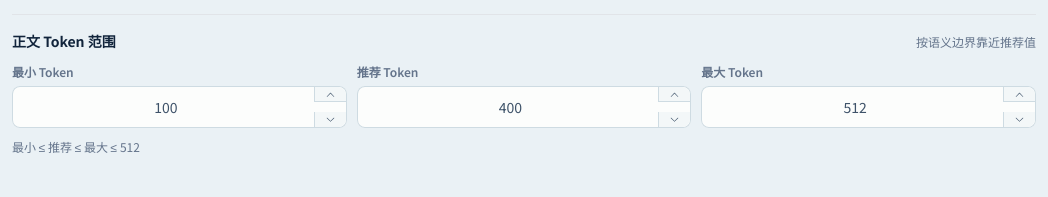
Test: MarkdownStrategyConfig › reports an inline error for a maximum above 512 and disables preview through validity
This screenshot has width=1048, height=197.
Replace the text in the number field labelled "最大 Token" with "513": (855, 107) [716,87,994,127]
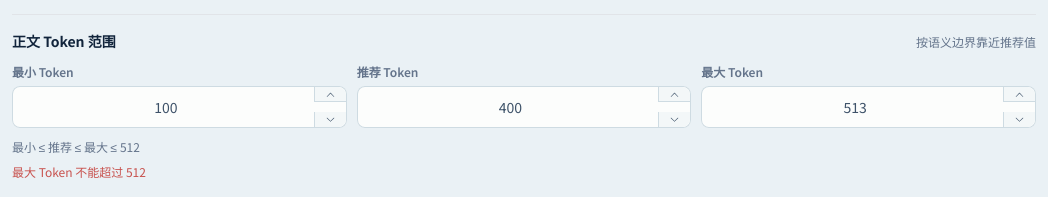
Result: the message "最大 Token 不能超过 512" is shown at [12,163,146,180]
